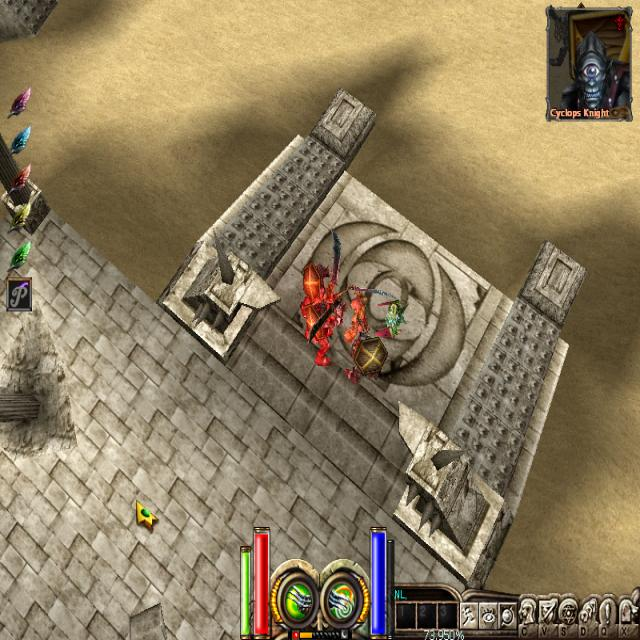monster: (342, 315, 391, 397), (374, 269, 416, 347)
